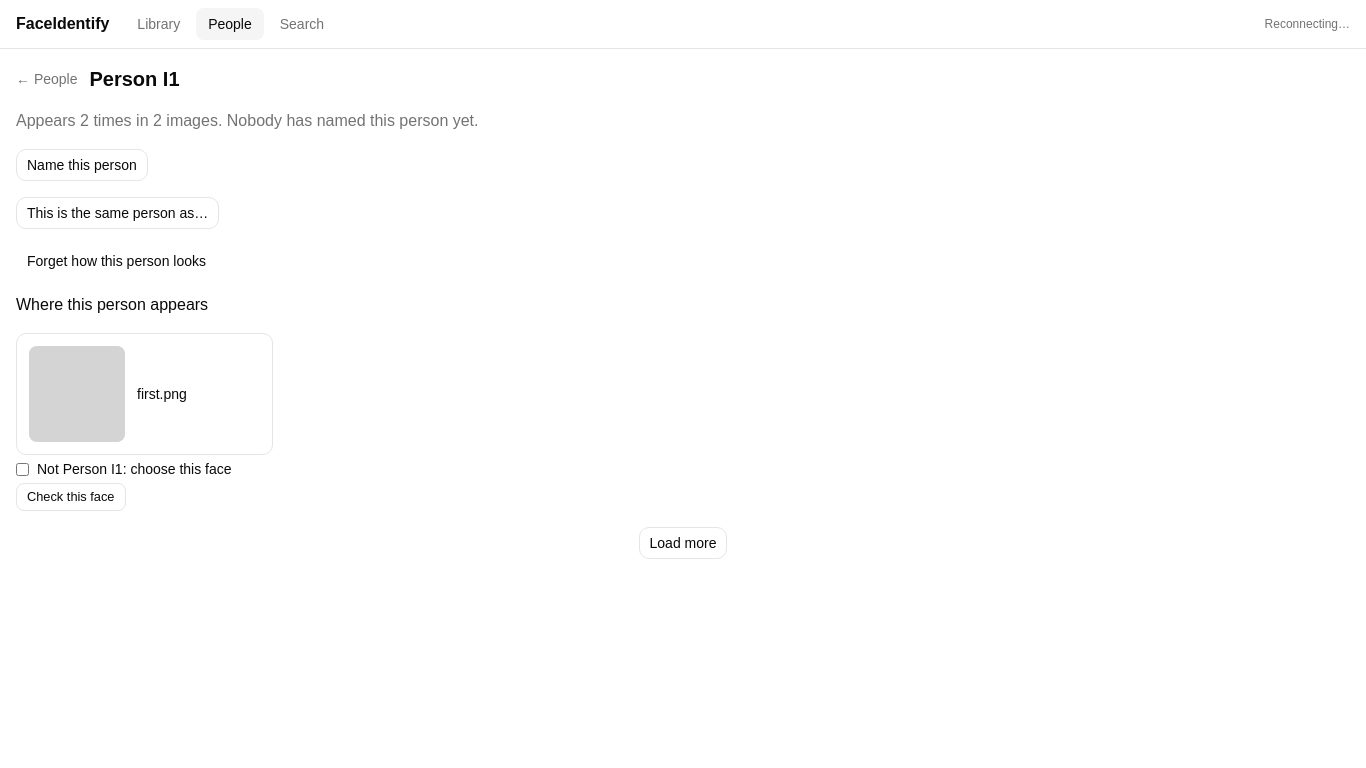
Test: a person › pages through many appearances on request
Click the button "Load more".
click(683, 543)  # box [638, 527, 727, 559]
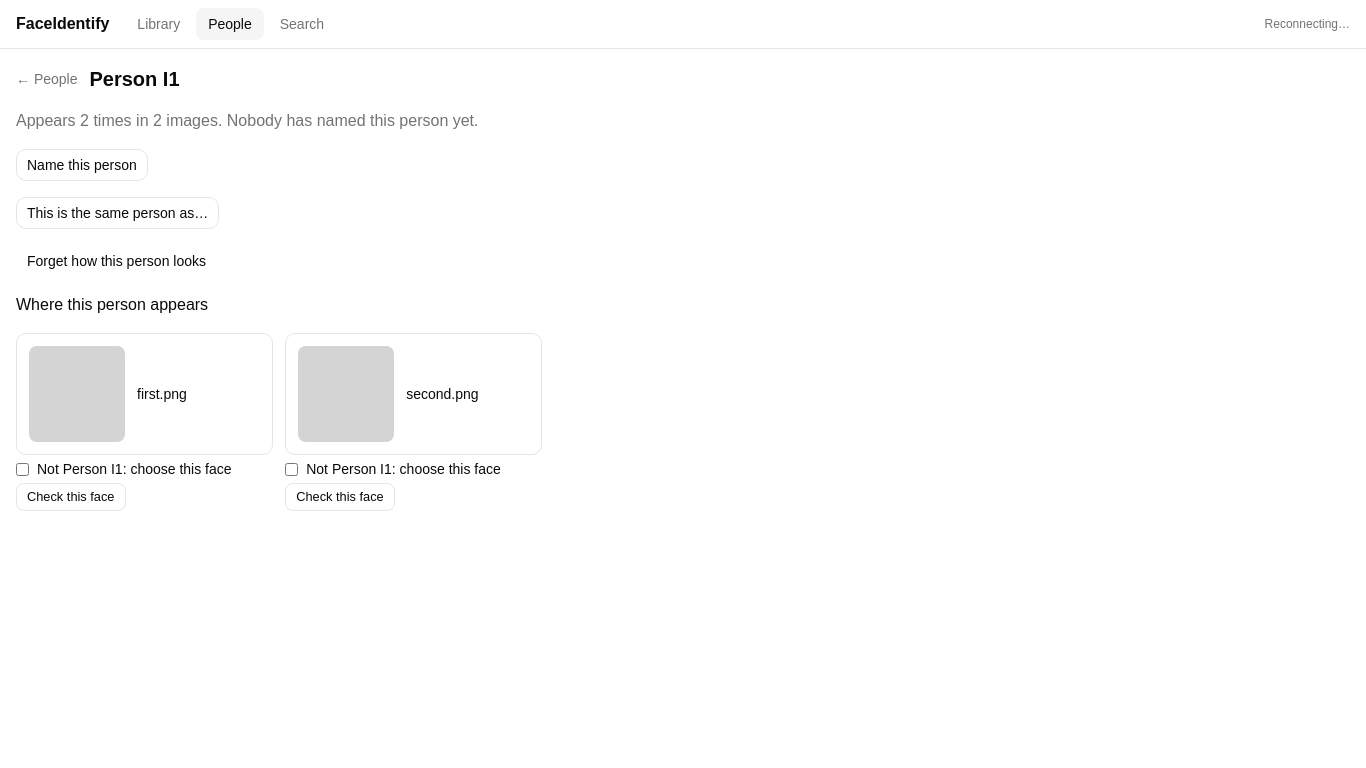
Expected: the link "first.png" is shown, [16, 333, 273, 455]
Result: the link "second.png" is shown at [285, 333, 542, 455]
